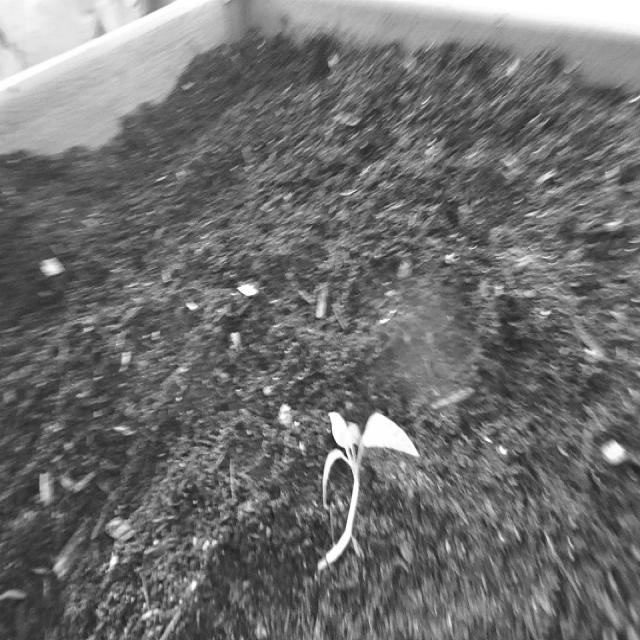Healthy: (308, 389, 424, 589)
